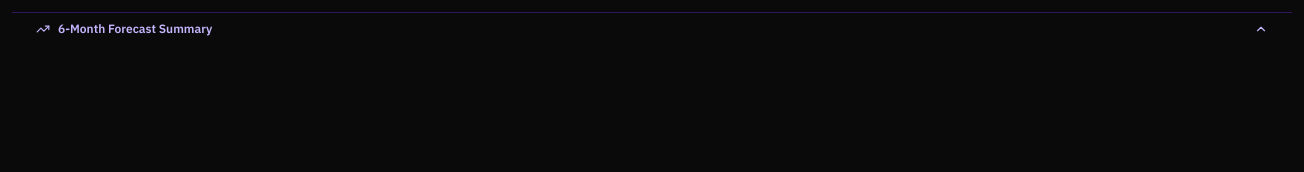
Test: ForecastSummaryPanel › collapse behavior › hides table again when toggle is clicked a second time
The image size is (1304, 172).
What coordinates should you click on to do the following:
click the button "6-Month Forecast Summary"
I would click on:
 (135, 28)
Its box is [12,13,1292,45].
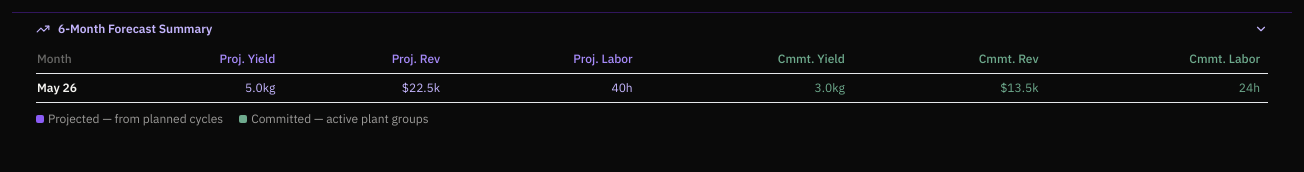
Check: the table is shown, box [36,45,1268,103]
What coordinates should you click on to do the following:
click the button "6-Month Forecast Summary"
I would click on:
 (135, 28)
Its box is [12,13,1292,45].
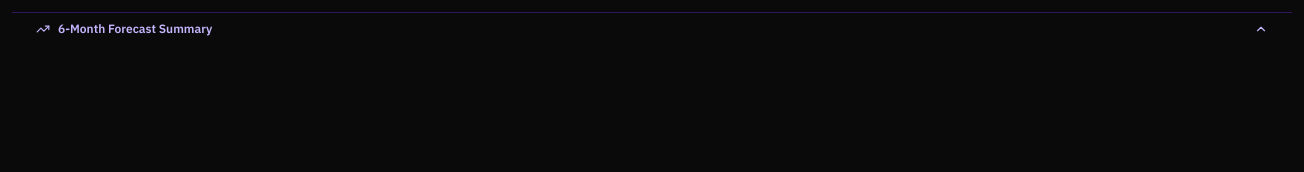
Check: the table is gone
